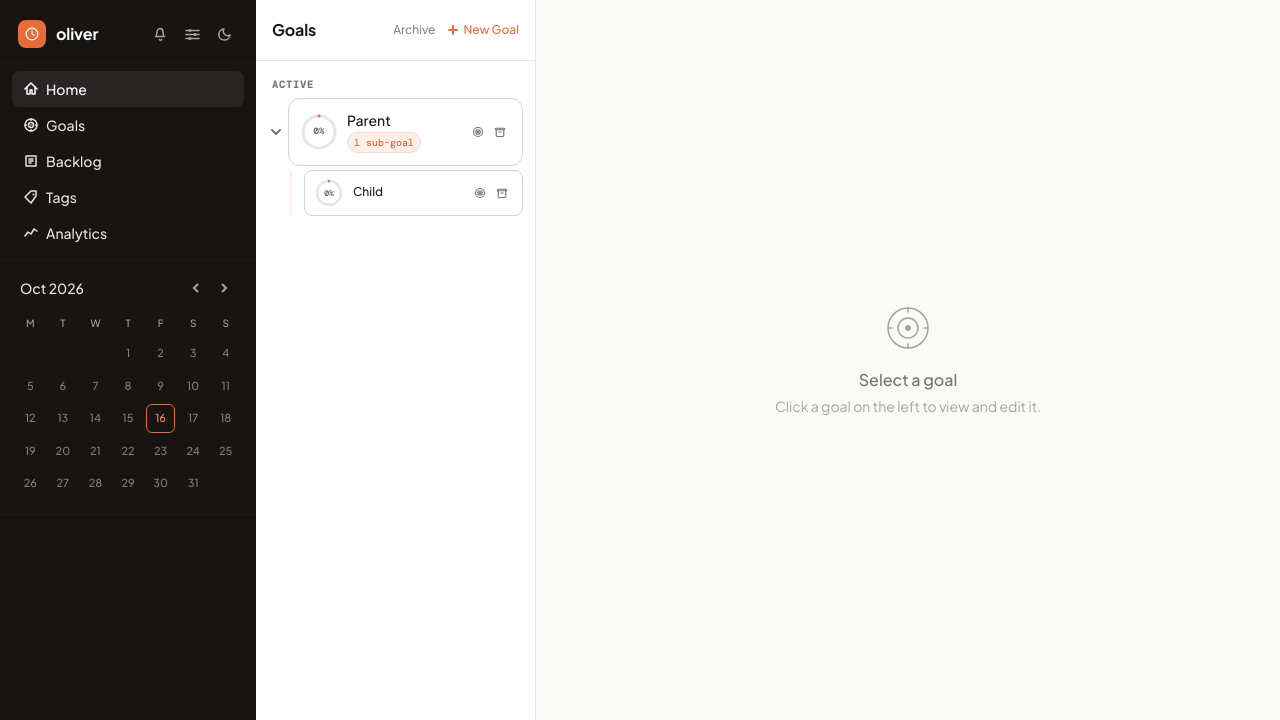
Test case: Goals nested list › collapses and expands a parent’s sub-goals
Expected: the text "Parent" is shown, [347, 111, 391, 130]
Expected: the text "Child" is shown, [353, 184, 383, 200]
Click the button named "collapse sub-goals": x=276, y=132 [268, 124, 284, 140]
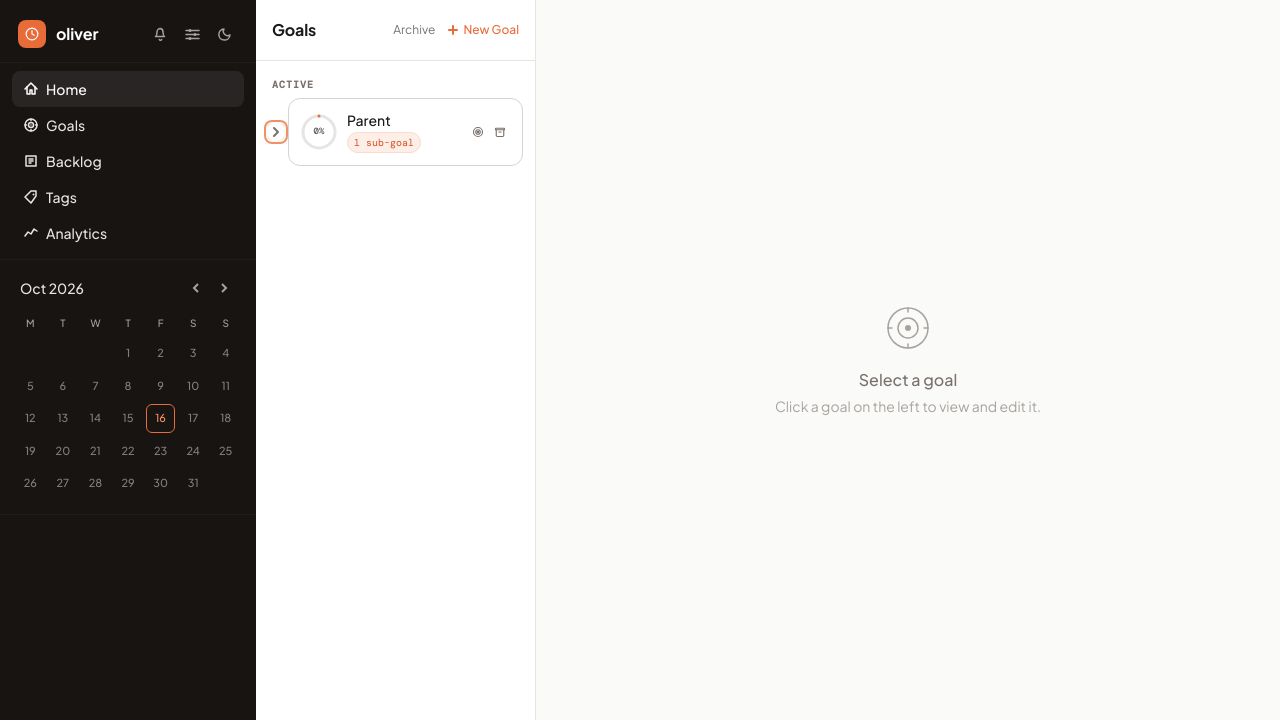
Now the button "Child" is gone
Click the button named "expand sub-goals": x=276, y=132 [268, 124, 284, 140]
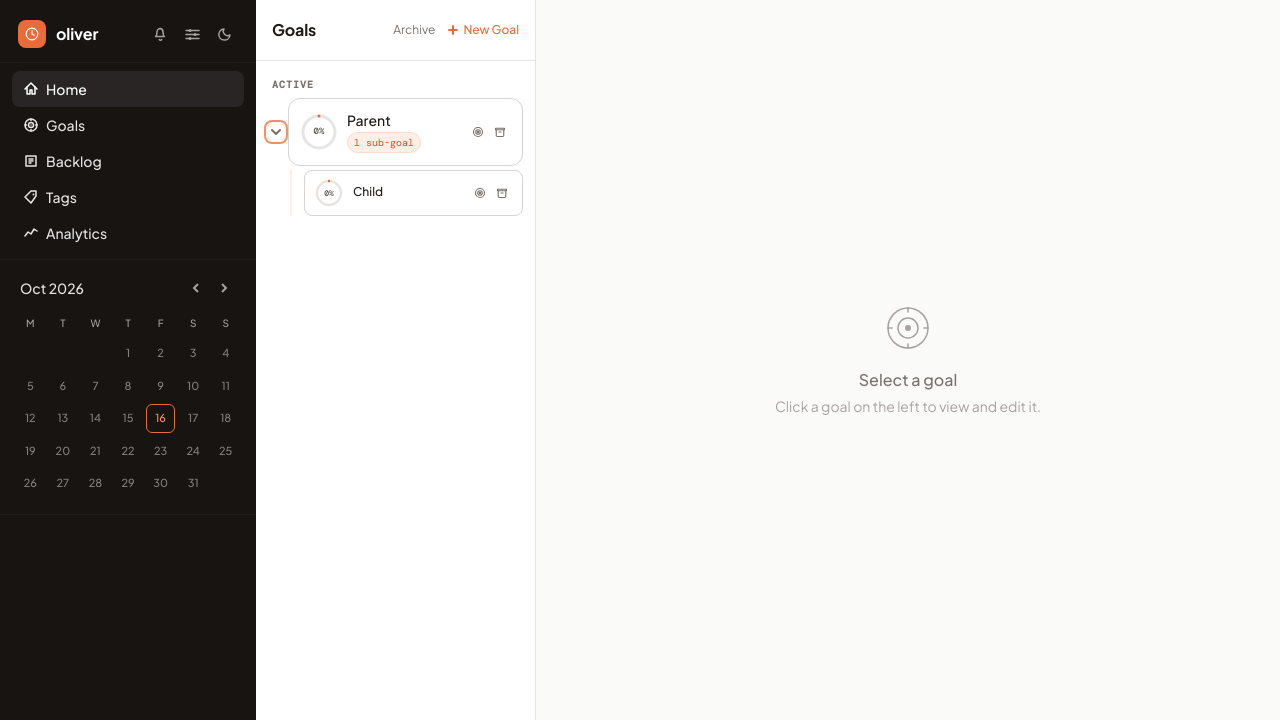
Now the text "Child" is shown, box [353, 184, 383, 200]
